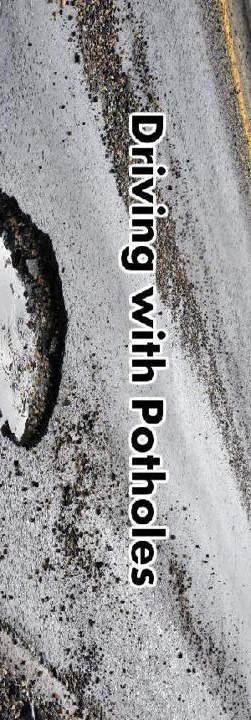pothole: (0, 181, 71, 452)
